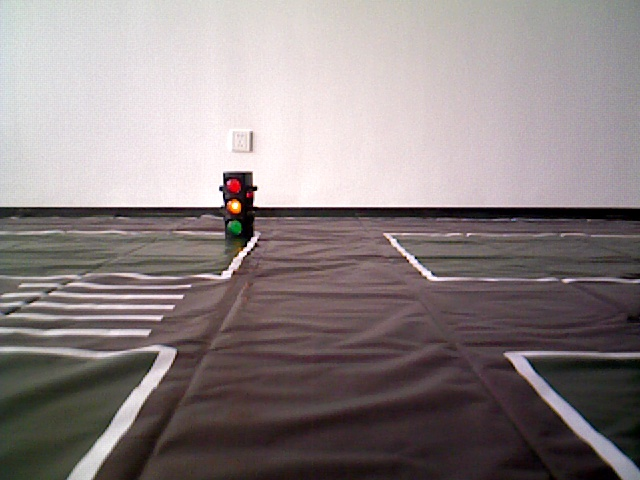yellow: (222, 173, 255, 240)
